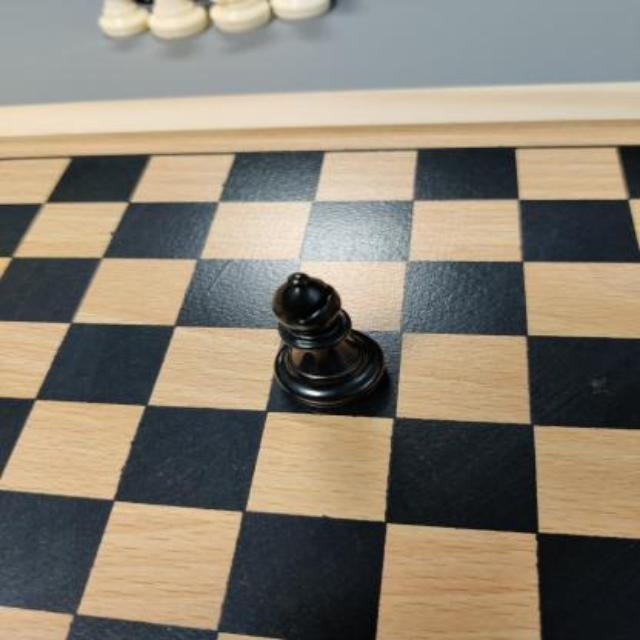black-bishop: (271, 269, 392, 409)
